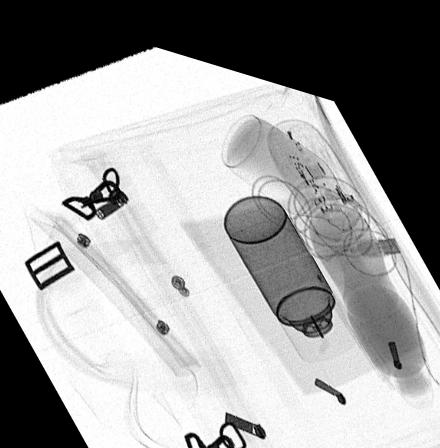Sprayer: (223, 179, 355, 343)
